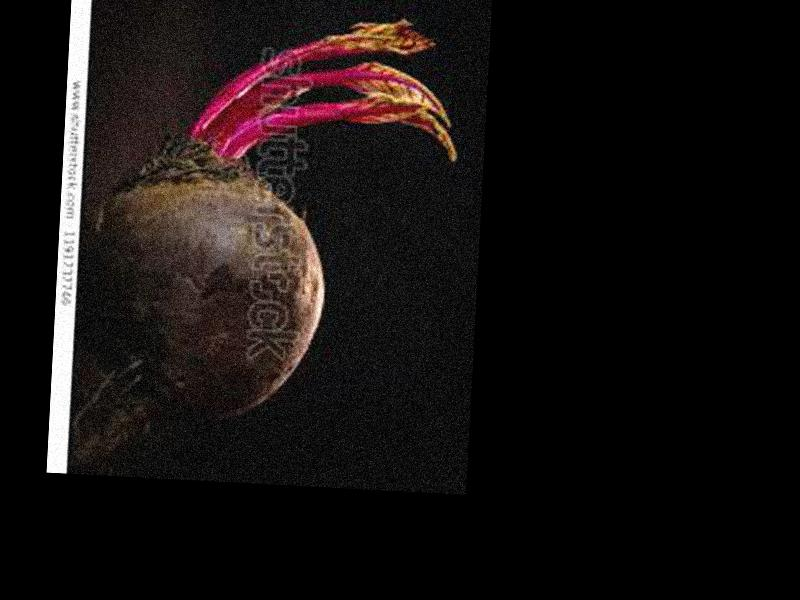Beet: (68, 4, 463, 493)
